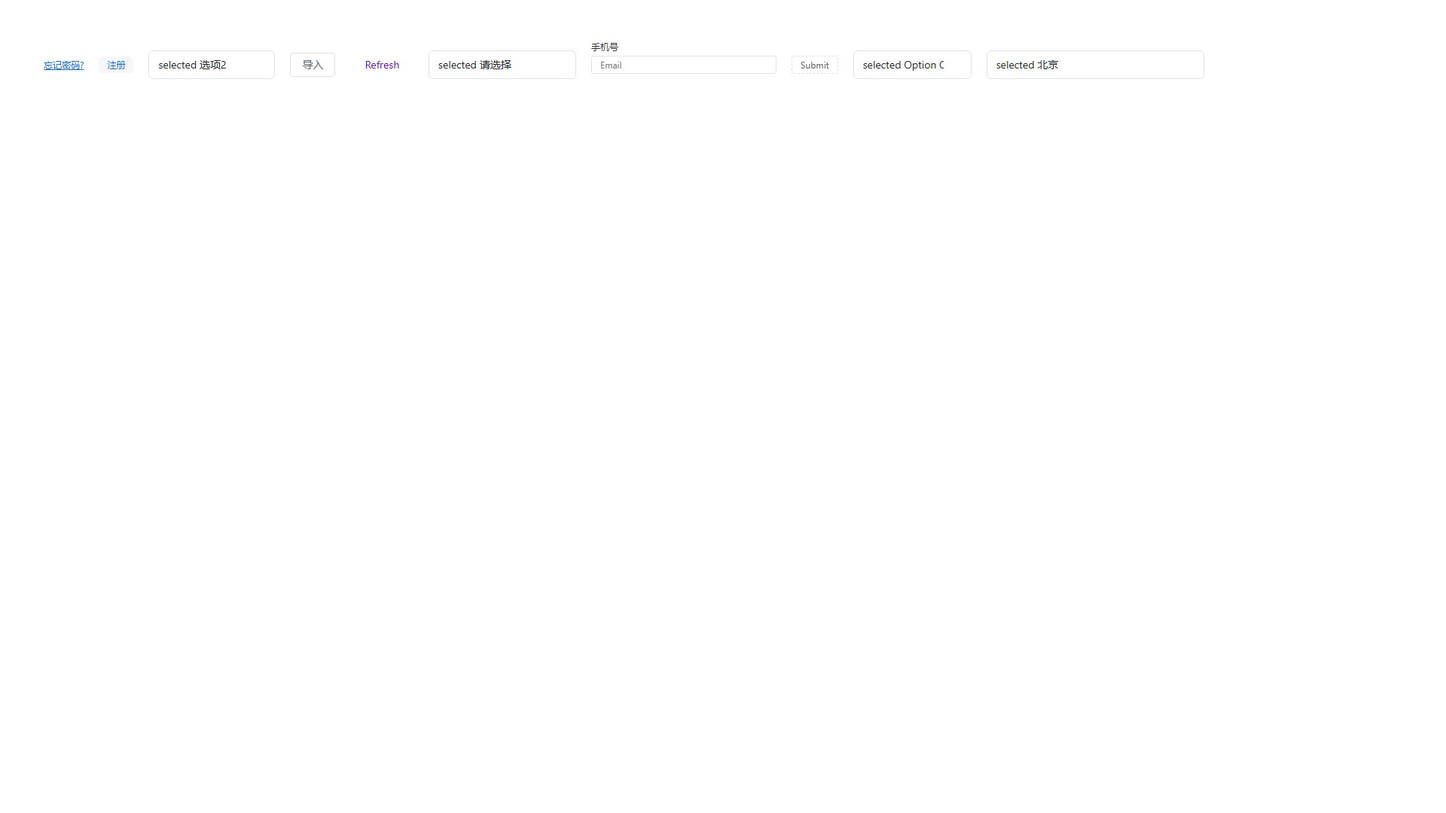button: (350, 50, 414, 79), (290, 53, 335, 77), (792, 56, 838, 74), (99, 56, 134, 73)
input: (591, 56, 777, 74)
link: (44, 59, 84, 71)
select: (986, 50, 1204, 79), (429, 50, 576, 79), (149, 50, 275, 79), (853, 50, 971, 79)
